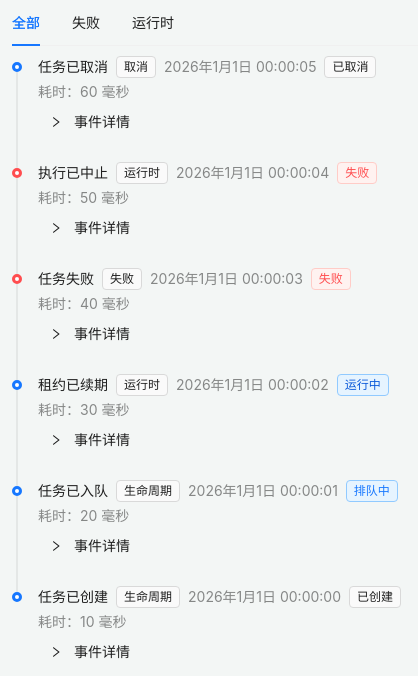
Scenario: research insight components › filters failure events
Click the tab "失败" at (86, 23), box [72,12,100,34]
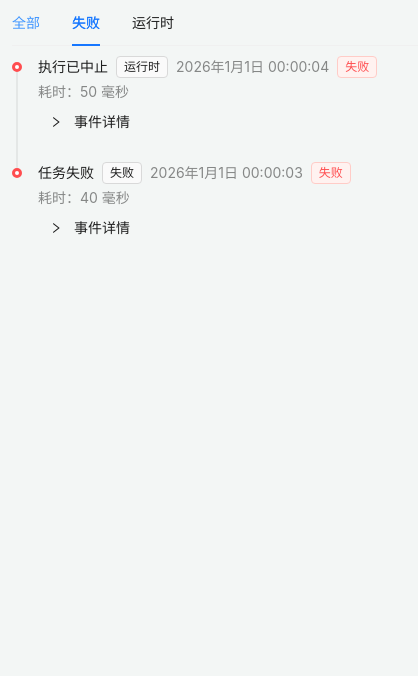
expect the text "任务失败" is shown: met, box [38,164,94,180]
expect the text "任务已创建" is gone: met
